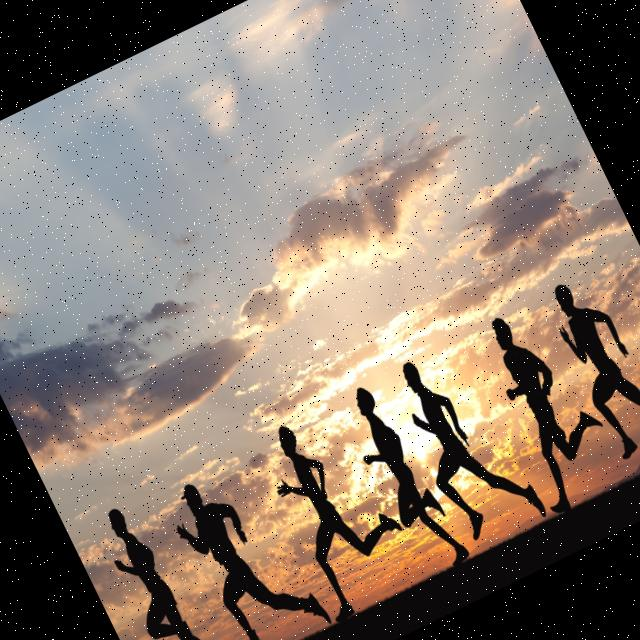Person: (248, 396, 426, 620), (464, 295, 632, 520), (382, 334, 548, 552), (160, 453, 333, 640), (334, 374, 471, 580), (540, 258, 640, 475), (91, 492, 232, 640)
